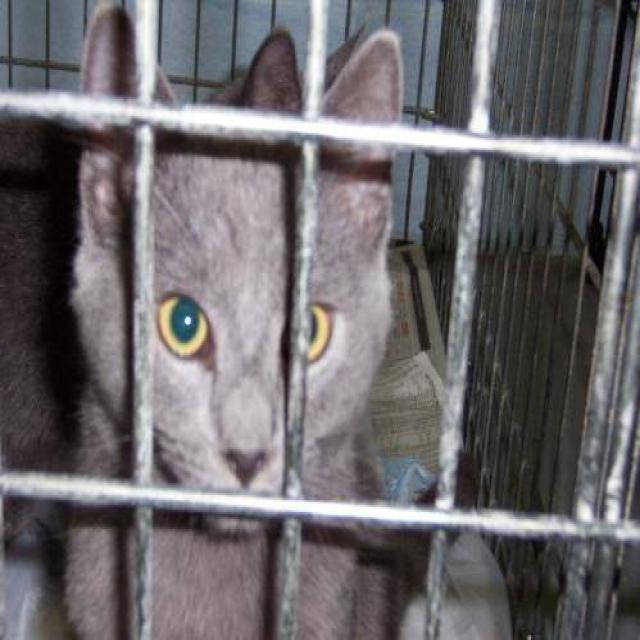cat: (0, 0, 519, 638)
